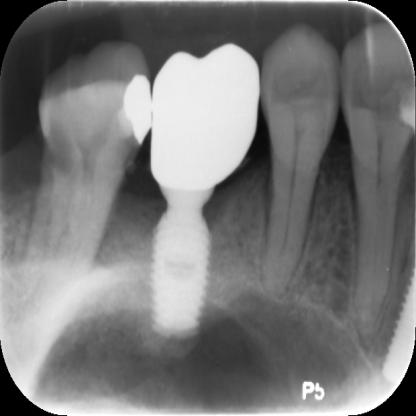Bicon: (150, 184, 214, 342)
